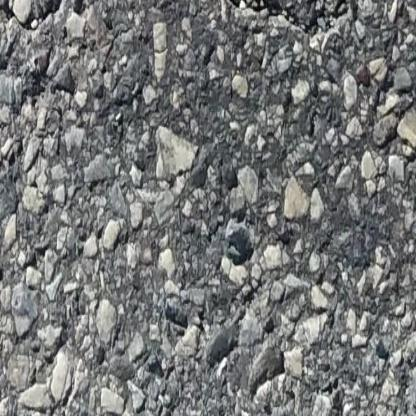Cracks: (0, 0, 71, 124), (207, 0, 367, 36)
